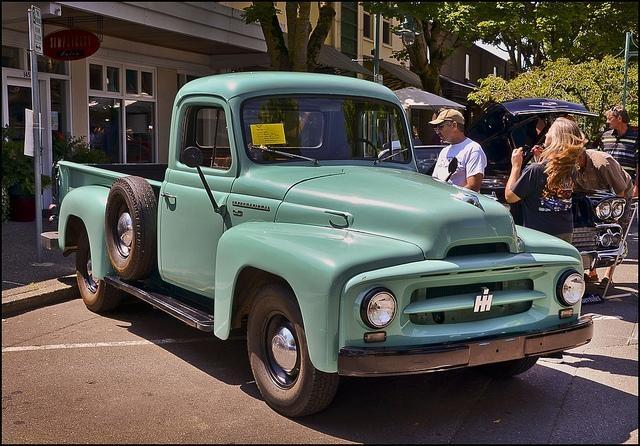car: (466, 97, 599, 206), (414, 144, 450, 176)
truck: (41, 71, 595, 418)
